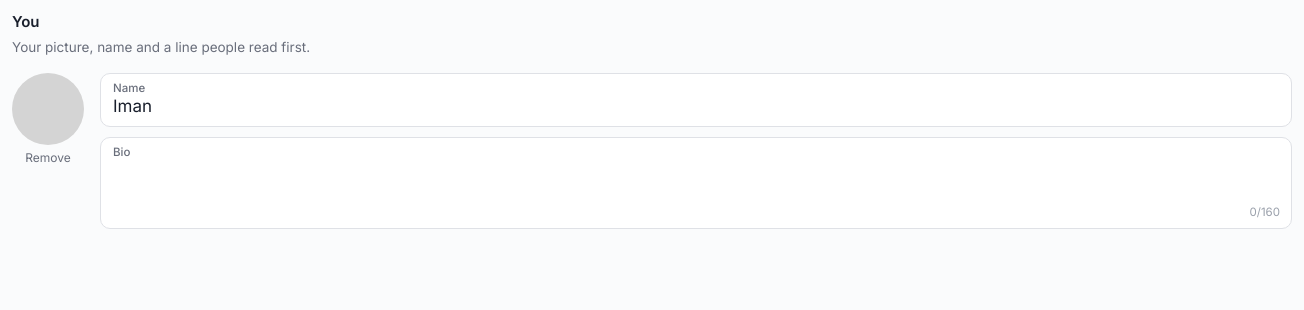
Scenario: ProfileEditor picture › says why when removing the picture fails
Click the button with aria-label "Remove picture": x=48, y=158 [19, 147, 77, 169]
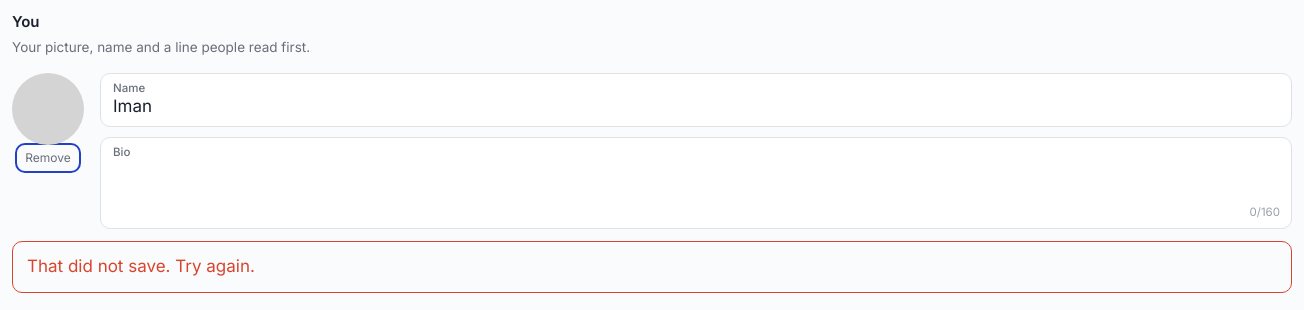
Now the message shows "did not save", box [27, 256, 255, 276]
